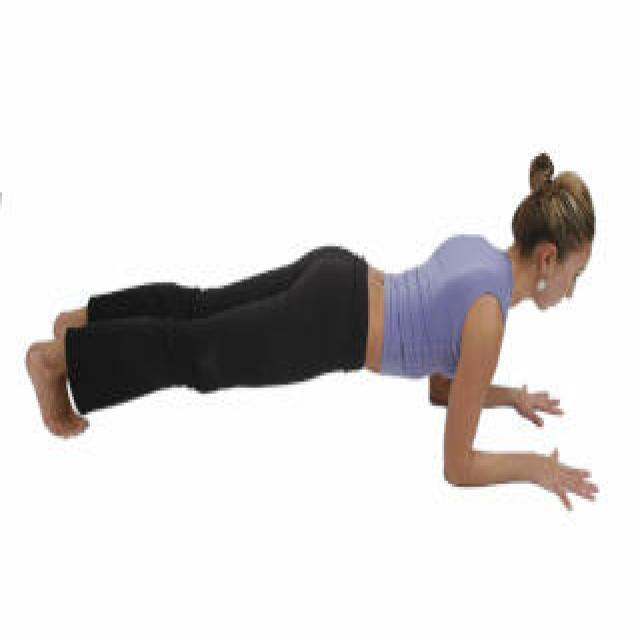yoga-pose plank: (30, 160, 609, 503)
